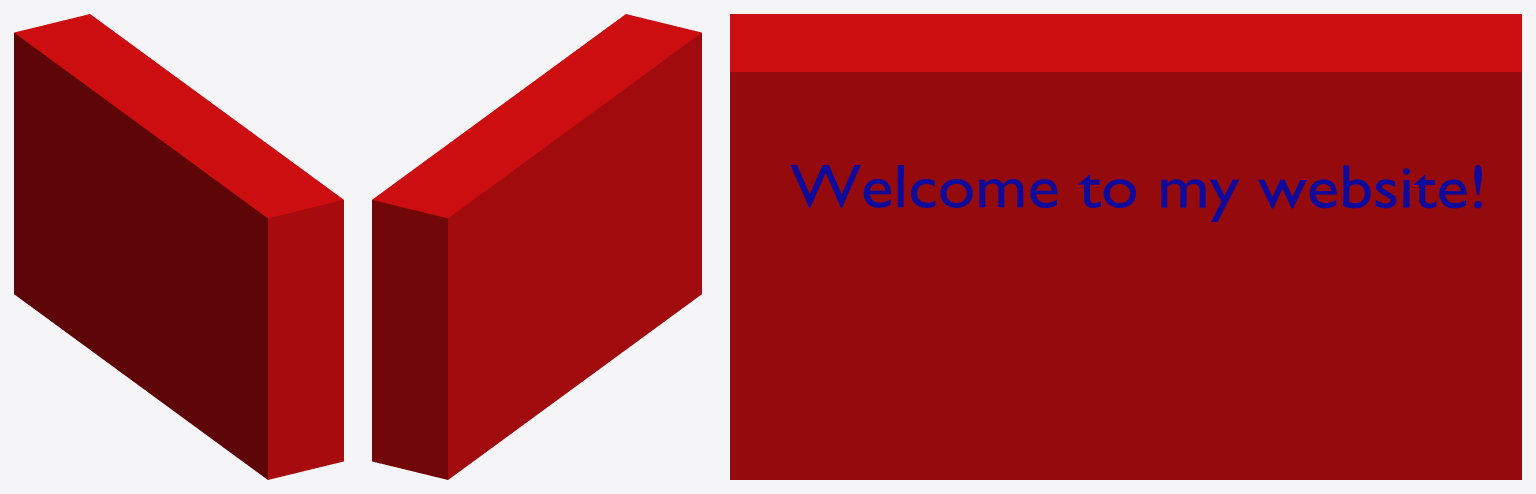
File: BillboardModel.glb
3 views of the same model, side by side, from view 1: azimuth 30°, elevation 25°; view 2: azimuth 150°, elevation 25°; view 3: azimuth 270°, elevation 25° (orthographic). The views are drawn at different scales.
Parts seen in each view (by area): view 1: Cube; view 2: Cube; view 3: Cube, Text.
Boxes of the visible parts, bbox=[...] form: Cube: bbox=[14, 14, 343, 479]; Cube: bbox=[372, 14, 701, 479]; Cube: bbox=[730, 14, 1521, 479]; Text: bbox=[790, 165, 1481, 221].
Bounding box in the file's own units: 1.24 × 3.97 × 6.99.
